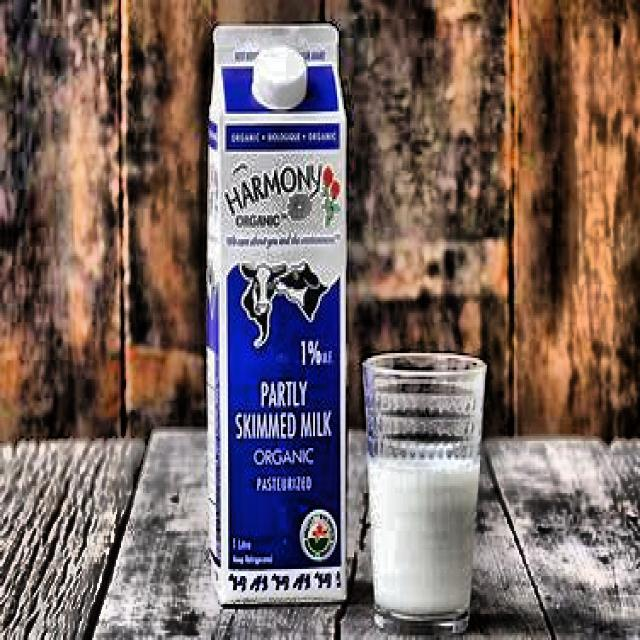cardboard: (202, 22, 349, 604)
